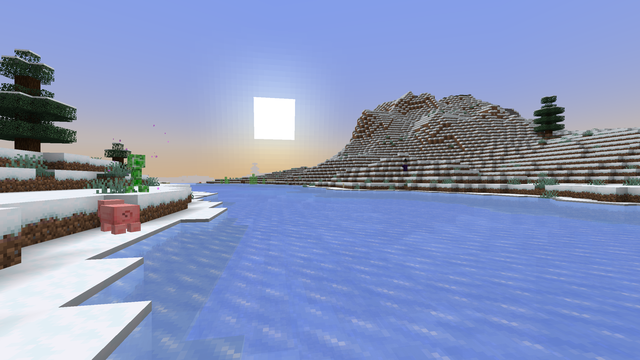cochons: (91, 202, 143, 238)
creepers: (123, 152, 147, 195)
sorcieres: (403, 161, 407, 169)
